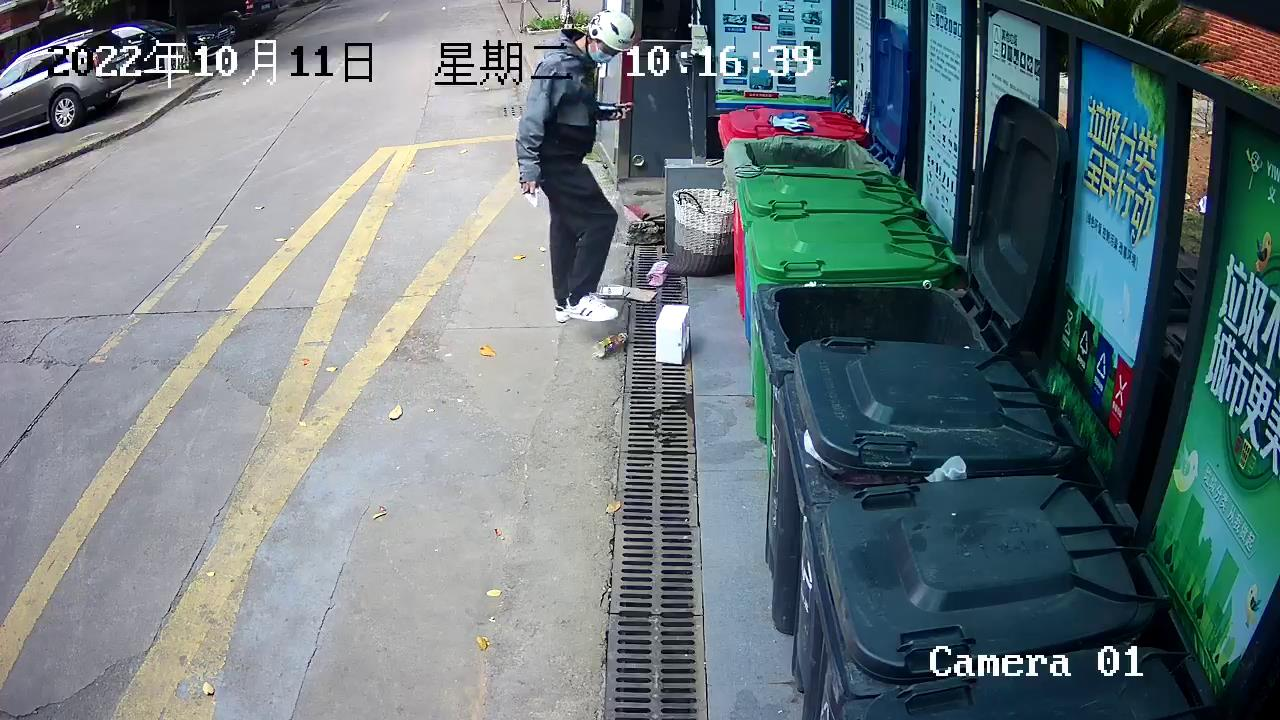person: (506, 7, 640, 329)
suliaozhipin: (590, 329, 630, 360), (643, 256, 675, 290)
zhizhipin: (652, 299, 694, 368)
